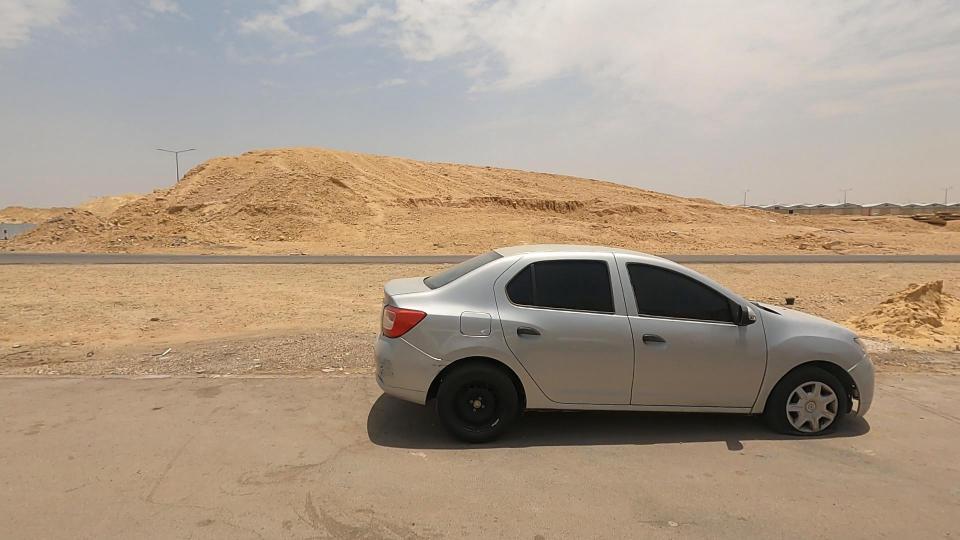SAND_ON_ROAD: (773, 218, 960, 398)
